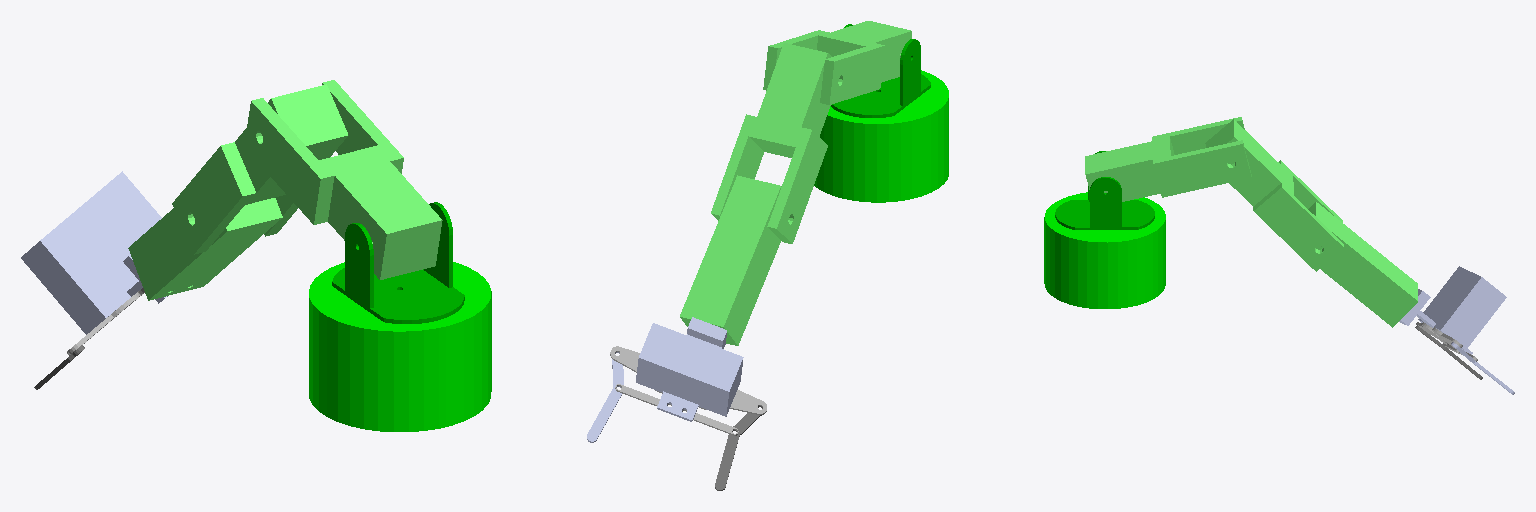
robot.urdf — Basic arm assembly:
<?xml version="1.0" encoding="utf-8"?>
<!-- This URDF was automatically created by SolidWorks to URDF Exporter! Originally created by [author] ([email redacted]) 
     Commit Version: 1.6.0-4-g7f85cfe  Build Version: 1.6.7995.38578
     For more information, please see http://wiki.ros.org/sw_urdf_exporter -->
<robot
  name="Basic arm assembly">
  <link
    name="base_link">
    <inertial>
      <origin
        xyz="-0.00380985203184991 0.00814825726353621 -0.00233105284996782"
        rpy="0 0 0" />
      <mass
        value="0.235167059677118" />
      <inertia
        ixx="0.000136829619935939"
        ixy="-2.11717002823901E-22"
        ixz="2.29413373012754E-22"
        iyy="0.000183424841060507"
        iyz="6.10739134785518E-23"
        izz="0.000136829619935939" />
    </inertial>
    <visual>
      <origin
        xyz="0 0 0"
        rpy="0 0 0" />
      <geometry>
        <mesh
          filename="package://Basic arm assembly/meshes/base_link.STL" />
      </geometry>
      <material
        name="">
        <color
          rgba="0 1 0 1" />
      </material>
    </visual>
    <collision>
      <origin
        xyz="0 0 0"
        rpy="0 0 0" />
      <geometry>
        <mesh
          filename="package://Basic arm assembly/meshes/base_link.STL" />
      </geometry>
    </collision>
  </link>
  <link
    name="Link_1">
    <inertial>
      <origin
        xyz="-0.000564703412767111 0.00737909547213431 2.12990605447734E-05"
        rpy="0 0 0" />
      <mass
        value="0.00763628922233268" />
      <inertia
        ixx="2.33561396329846E-06"
        ixy="-2.86200073716274E-09"
        ixz="1.13462915563342E-08"
        iyy="3.27744113916437E-06"
        iyz="1.03753300000382E-09"
        izz="2.56532477145443E-06" />
    </inertial>
    <visual>
      <origin
        xyz="0 0 0"
        rpy="0 0 0" />
      <geometry>
        <mesh
          filename="package://Basic arm assembly/meshes/Link_1.STL" />
      </geometry>
      <material
        name="">
        <color
          rgba="0 0.752941176470588 0 1" />
      </material>
    </visual>
    <collision>
      <origin
        xyz="0 0 0"
        rpy="0 0 0" />
      <geometry>
        <mesh
          filename="package://Basic arm assembly/meshes/Link_1.STL" />
      </geometry>
    </collision>
  </link>
  <joint
    name="Joint_0"
    type="revolute">
    <origin
      xyz="-0.0038099 0.0023311 0.03214"
      rpy="1.5708 0 0" />
    <parent
      link="base_link" />
    <child
      link="Link_1" />
    <axis
      xyz="0 1 0" />
    <limit
      lower="0"
      upper="3.1416"
      effort="0"
      velocity="0" />
  </joint>
  <link
    name="Link_2">
    <inertial>
      <origin
        xyz="-0.0322108471620749 1.37806432931598E-14 0.000505950653121921"
        rpy="0 0 0" />
      <mass
        value="0.0582101880777064" />
      <inertia
        ixx="1.1566515603708E-05"
        ixy="1.67530866170466E-17"
        ixz="-6.40659875575069E-21"
        iyy="5.07366498014865E-05"
        iyz="6.30185970034557E-22"
        izz="4.52624130488437E-05" />
    </inertial>
    <visual>
      <origin
        xyz="0 0 0"
        rpy="0 0 0" />
      <geometry>
        <mesh
          filename="package://Basic arm assembly/meshes/Link_2.STL" />
      </geometry>
      <material
        name="">
        <color
          rgba="0.501960784313725 1 0.501960784313725 1" />
      </material>
    </visual>
    <collision>
      <origin
        xyz="0 0 0"
        rpy="0 0 0" />
      <geometry>
        <mesh
          filename="package://Basic arm assembly/meshes/Link_2.STL" />
      </geometry>
    </collision>
  </link>
  <joint
    name="Joint_1"
    type="revolute">
    <origin
      xyz="0 0.027 0"
      rpy="3.1416 1.5708 0" />
    <parent
      link="Link_1" />
    <child
      link="Link_2" />
    <axis
      xyz="0 0 1" />
    <limit
      lower="-3.1416"
      upper="0"
      effort="0"
      velocity="0" />
  </joint>
  <link
    name="Link_3">
    <inertial>
      <origin
        xyz="-0.0322108471620749 3.09613445992341E-14 0.000505950653121706"
        rpy="0 0 0" />
      <mass
        value="0.0582101880777064" />
      <inertia
        ixx="1.1566515603708E-05"
        ixy="3.76303174409481E-17"
        ixz="2.01141229106755E-20"
        iyy="5.07366498014865E-05"
        iyz="1.28124924770971E-21"
        izz="4.52624130488437E-05" />
    </inertial>
    <visual>
      <origin
        xyz="0 0 0"
        rpy="0 0 0" />
      <geometry>
        <mesh
          filename="package://Basic arm assembly/meshes/Link_3.STL" />
      </geometry>
      <material
        name="">
        <color
          rgba="0.501960784313725 1 0.501960784313725 1" />
      </material>
    </visual>
    <collision>
      <origin
        xyz="0 0 0"
        rpy="0 0 0" />
      <geometry>
        <mesh
          filename="package://Basic arm assembly/meshes/Link_3.STL" />
      </geometry>
    </collision>
  </link>
  <joint
    name="Joint_2"
    type="revolute">
    <origin
      xyz="-0.084 0 0"
      rpy="0 0 -1.5708" />
    <parent
      link="Link_2" />
    <child
      link="Link_3" />
    <axis
      xyz="0 0 1" />
    <limit
      lower="-3.1416"
      upper="0"
      effort="0"
      velocity="0" />
  </joint>
  <link
    name="Link 4">
    <inertial>
      <origin
        xyz="-0.0308954859836362 -9.54258413213629E-06 -0.0005059506531217"
        rpy="0 0 0" />
      <mass
        value="0.0622222455818236" />
      <inertia
        ixx="7.31957022846746E-06"
        ixy="-2.29218553278415E-08"
        ixz="-9.99609948842174E-20"
        iyy="4.50564685467085E-05"
        iyz="3.73625221984056E-22"
        izz="4.4213826685387E-05" />
    </inertial>
    <visual>
      <origin
        xyz="0 0 0"
        rpy="0 0 0" />
      <geometry>
        <mesh
          filename="package://Basic arm assembly/meshes/Link 4.STL" />
      </geometry>
      <material
        name="">
        <color
          rgba="0.501960784313725 1 0.501960784313725 1" />
      </material>
    </visual>
    <collision>
      <origin
        xyz="0 0 0"
        rpy="0 0 0" />
      <geometry>
        <mesh
          filename="package://Basic arm assembly/meshes/Link 4.STL" />
      </geometry>
    </collision>
  </link>
  <joint
    name="Joint_3"
    type="revolute">
    <origin
      xyz="-0.084 0 0"
      rpy="3.1416 0 -1.5708" />
    <parent
      link="Link_3" />
    <child
      link="Link 4" />
    <axis
      xyz="0 0 1" />
    <limit
      lower="0"
      upper="3.1416"
      effort="1"
      velocity="1" />
  </joint>
  <link
    name="Link_5">
    <inertial>
      <origin
        xyz="1.17510168262669E-14 0.0202884230751128 0.0131503380736347"
        rpy="0 0 0" />
      <mass
        value="0.0571211482462945" />
      <inertia
        ixx="1.56137488364131E-05"
        ixy="-1.17883163456157E-18"
        ixz="4.66982167838852E-18"
        iyy="1.80777649140427E-05"
        iyz="-1.93269805506753E-06"
        izz="2.32777584956804E-05" />
    </inertial>
    <visual>
      <origin
        xyz="0 0 0"
        rpy="0 0 0" />
      <geometry>
        <mesh
          filename="package://Basic arm assembly/meshes/Link_5.STL" />
      </geometry>
      <material
        name="">
        <color
          rgba="0.792156862745098 0.819607843137255 0.933333333333333 1" />
      </material>
    </visual>
    <collision>
      <origin
        xyz="0 0 0"
        rpy="0 0 0" />
      <geometry>
        <mesh
          filename="package://Basic arm assembly/meshes/Link_5.STL" />
      </geometry>
    </collision>
  </link>
  <joint
    name="Joint_4"
    type="revolute">
    <origin
      xyz="-0.0755 0 -0.00050595"
      rpy="1.5708 1.5621 1.5708" />
    <parent
      link="Link 4" />
    <child
      link="Link_5" />
    <axis
      xyz="0 0 1" />
    <limit
      lower="-1.5621"
      upper="1.5795"
      effort="0"
      velocity="0" />
  </joint>
  <link
    name="Link_gripper_right_base">
    <inertial>
      <origin
        xyz="0.00610868503662098 0.168993636391325 6.06430163102162E-05"
        rpy="0 0 0" />
      <mass
        value="0.00118076821825667" />
      <inertia
        ixx="2.7316068941324E-08"
        ixy="-6.1115024132591E-22"
        ixz="3.53816603561634E-11"
        iyy="1.84200009668776E-07"
        iyz="-2.3951702751801E-21"
        izz="1.57671119539623E-07" />
    </inertial>
    <visual>
      <origin
        xyz="0 0 0"
        rpy="0 0 0" />
      <geometry>
        <mesh
          filename="package://Basic arm assembly/meshes/Link_gripper_right_base.STL" />
      </geometry>
      <material
        name="">
        <color
          rgba="0.752941176470588 0.752941176470588 0.752941176470588 1" />
      </material>
    </visual>
    <collision>
      <origin
        xyz="0 0 0"
        rpy="0 0 0" />
      <geometry>
        <mesh
          filename="package://Basic arm assembly/meshes/Link_gripper_right_base.STL" />
      </geometry>
    </collision>
  </link>
  <joint
    name="Joint_gripper_right_base"
    type="fixed">
    <origin
      xyz="0.0125 0 0.015"
      rpy="3.1416 0.042855 0" />
    <parent
      link="Link_5" />
    <child
      link="Link_gripper_right_base" />
    <axis
      xyz="0 0 0" />
  </joint>
  <link
    name="Link_gripper_right_end">
    <inertial>
      <origin
        xyz="-0.00468697734735113 0.168343695782762 0.00669160531609816"
        rpy="0 0 0" />
      <mass
        value="0.000652163637398932" />
      <inertia
        ixx="2.34523770944788E-08"
        ixy="1.73746608497845E-10"
        ixz="5.13033003198838E-08"
        iyy="1.66519931118194E-07"
        iyz="1.14499464590631E-11"
        izz="1.435051069775E-07" />
    </inertial>
    <visual>
      <origin
        xyz="0 0 0"
        rpy="0 0 0" />
      <geometry>
        <mesh
          filename="package://Basic arm assembly/meshes/Link_gripper_right_end.STL" />
      </geometry>
      <material
        name="">
        <color
          rgba="0.501960784313725 0.501960784313725 0.501960784313725 1" />
      </material>
    </visual>
    <collision>
      <origin
        xyz="0 0 0"
        rpy="0 0 0" />
      <geometry>
        <mesh
          filename="package://Basic arm assembly/meshes/Link_gripper_right_end.STL" />
      </geometry>
    </collision>
  </link>
  <joint
    name="Joint_gripper_right_end"
    type="fixed">
    <origin
      xyz="0.019788 0.17199 -0.017921"
      rpy="-3.1416 -1.1179 0" />
    <parent
      link="Link_gripper_right_base" />
    <child
      link="Link_gripper_right_end" />
    <axis
      xyz="0 0 0" />
  </joint>
  <link
    name="Link_gripper_right_support">
    <inertial>
      <origin
        xyz="0.0167959834080883 0.168654050736 -0.167996890001364"
        rpy="0 0 0" />
      <mass
        value="0.000236858407346411" />
      <inertia
        ixx="4.13593831831108E-10"
        ixy="3.10899104660179E-10"
        ixz="5.21524484083866E-15"
        iyy="1.82661859085473E-08"
        iyz="8.19040580389625E-15"
        izz="1.80213228840835E-08" />
    </inertial>
    <visual>
      <origin
        xyz="0 0 0"
        rpy="0 0 0" />
      <geometry>
        <mesh
          filename="package://Basic arm assembly/meshes/Link_gripper_right_support.STL" />
      </geometry>
      <material
        name="">
        <color
          rgba="0.752941176470588 0.752941176470588 0.752941176470588 1" />
      </material>
    </visual>
    <collision>
      <origin
        xyz="0 0 0"
        rpy="0 0 0" />
      <geometry>
        <mesh
          filename="package://Basic arm assembly/meshes/Link_gripper_right_support.STL" />
      </geometry>
    </collision>
  </link>
  <joint
    name="Joint_gripper_right_support"
    type="revolute">
    <origin
      xyz="0.0044993 -7.8331E-05 0.032"
      rpy="3.1416 -0.0019006 -0.017408" />
    <parent
      link="Link_5" />
    <child
      link="Link_gripper_right_support" />
    <axis
      xyz="0 1 0" />
    <limit
      lower="-1.5689"
      upper="0.0019006"
      effort="0"
      velocity="0" />
  </joint>
  <link
    name="Link_gripper_right_support_end">
    <inertial>
      <origin
        xyz="0.148911374531962 0.000350024932742193 -0.0616624819723988"
        rpy="0 0 0" />
      <mass
        value="0.000652163637398935" />
      <inertia
        ixx="2.34815415754439E-08"
        ixy="1.72999659155749E-10"
        ixz="5.13374061207313E-08"
        iyy="1.66519932645771E-07"
        iyz="1.16789359519553E-11"
        izz="1.43475940968959E-07" />
    </inertial>
    <visual>
      <origin
        xyz="0 0 0"
        rpy="0 0 0" />
      <geometry>
        <mesh
          filename="package://Basic arm assembly/meshes/Link_gripper_right_support_end.STL" />
      </geometry>
      <material
        name="">
        <color
          rgba="0.501960784313725 0.501960784313725 0.501960784313725 1" />
      </material>
    </visual>
    <collision>
      <origin
        xyz="0 0 0"
        rpy="0 0 0" />
      <geometry>
        <mesh
          filename="package://Basic arm assembly/meshes/Link_gripper_right_support_end.STL" />
      </geometry>
    </collision>
  </link>
  <joint
    name="Joint_gripper_right_support_end"
    type="fixed">
    <origin
      xyz="0.0318459313577292 0.171392493122483 -0.16799679507084"
      rpy="-3.14150929553947 -1.16267898759699 -0.0174842629087696" />
    <parent
      link="Link_gripper_right_support" />
    <child
      link="Link_gripper_right_support_end" />
    <axis
      xyz="0 0 0" />
  </joint>
  <link
    name="Link_gripper_left_base">
    <inertial>
      <origin
        xyz="0.0112074867107235 0.170644277924422 0.0461751805143446"
        rpy="0 0 0" />
      <mass
        value="0.00118076821825666" />
      <inertia
        ixx="2.84923375296939E-08"
        ixy="2.71766094352569E-09"
        ixz="1.20757126367771E-08"
        iyy="1.84152558998179E-07"
        iyz="-2.32498447480159E-10"
        izz="1.5654230162185E-07" />
    </inertial>
    <visual>
      <origin
        xyz="0 0 0"
        rpy="0 0 0" />
      <geometry>
        <mesh
          filename="package://Basic arm assembly/meshes/Link_gripper_left_base.STL" />
      </geometry>
      <material
        name="">
        <color
          rgba="0.752941176470588 0.752941176470588 0.752941176470588 1" />
      </material>
    </visual>
    <collision>
      <origin
        xyz="0 0 0"
        rpy="0 0 0" />
      <geometry>
        <mesh
          filename="package://Basic arm assembly/meshes/Link_gripper_left_base.STL" />
      </geometry>
    </collision>
  </link>
  <joint
    name="Joint_gripper_left_base"
    type="fixed">
    <origin
      xyz="-0.0139951551802364 -0.169775747076249 0.0150000000000947"
      rpy="-3.14159265358969 0.046735627045845 3.12418487107114" />
    <parent
      link="Link_5" />
    <child
      link="Link_gripper_left_base" />
    <axis
      xyz="0 0 0" />
  </joint>
  <link
    name="Link_gripper_left_end">
    <inertial>
      <origin
        xyz="0.0817397498326785 0.00634911586300868 0.0323250851710278"
        rpy="0 0 0" />
      <mass
        value="0.000652163637398932" />
      <inertia
        ixx="3.63813708270391E-08"
        ixy="-1.0951849728846E-10"
        ixz="-6.3380051560476E-08"
        iyy="1.66519932645771E-07"
        iyz="-1.34428339276265E-10"
        izz="1.30576111717363E-07" />
    </inertial>
    <visual>
      <origin
        xyz="0 0 0"
        rpy="0 0 0" />
      <geometry>
        <mesh
          filename="package://Basic arm assembly/meshes/Link_gripper_left_end.STL" />
      </geometry>
      <material
        name="">
        <color
          rgba="0.792156862745098 0.819607843137255 0.933333333333333 1" />
      </material>
    </visual>
    <collision>
      <origin
        xyz="0 0 0"
        rpy="0 0 0" />
      <geometry>
        <mesh
          filename="package://Basic arm assembly/meshes/Link_gripper_left_end.STL" />
      </geometry>
    </collision>
  </link>
  <joint
    name="Joint_gripper_left_end"
    type="fixed">
    <origin
      xyz="0.0264882202370043 0.173392493122449 0.0627740330934791"
      rpy="3.13930242587817 1.20779057576466 -0.0195297612363638" />
    <parent
      link="Link_gripper_left_base" />
    <child
      link="Link_gripper_left_end" />
    <axis
      xyz="0 0 0" />
  </joint>
  <link
    name="Link_gripper_left_support">
    <inertial>
      <origin
        xyz="0.00048758984452916 -0.000660414344889084 -0.248942505345365"
        rpy="0 0 0" />
      <mass
        value="0.000236858407346411" />
      <inertia
        ixx="4.13848282911545E-10"
        ixy="-3.10896889717982E-10"
        ixz="-6.69346021370814E-11"
        iyy="1.82661859085473E-08"
        iyz="-1.17358822229113E-12"
        izz="1.80210684330031E-08" />
    </inertial>
    <visual>
      <origin
        xyz="0 0 0"
        rpy="0 0 0" />
      <geometry>
        <mesh
          filename="package://Basic arm assembly/meshes/Link_gripper_left_support.STL" />
      </geometry>
      <material
        name="">
        <color
          rgba="0.752941176470588 0.752941176470588 0.752941176470588 1" />
      </material>
    </visual>
    <collision>
      <origin
        xyz="0 0 0"
        rpy="0 0 0" />
      <geometry>
        <mesh
          filename="package://Basic arm assembly/meshes/Link_gripper_left_support.STL" />
      </geometry>
    </collision>
  </link>
  <joint
    name="Joint_gripper_left_support"
    type="fixed">
    <origin
      xyz="-0.019497018435776 0.000339434143682142 0.0319714912166448"
      rpy="0 0.0019005867120053 3.12418487107114" />
    <parent
      link="Link_5" />
    <child
      link="Link_gripper_left_support" />
    <axis
      xyz="0 0 0" />
  </joint>
  <link
    name="Link_gripper_left_support_end">
    <inertial>
      <origin
        xyz="-0.00526984664867214 0.00035002493270209 -0.00535056235281295"
        rpy="0 0 0" />
      <mass
        value="0.000652163637398933" />
      <inertia
        ixx="2.34523711030141E-08"
        ixy="1.72996332875409E-10"
        ixz="-5.1303295439662E-08"
        iyy="1.66519932645771E-07"
        iyz="-1.17281020174843E-11"
        izz="1.43505111441388E-07" />
    </inertial>
    <visual>
      <origin
        xyz="0 0 0"
        rpy="0 0 0" />
      <geometry>
        <mesh
          filename="package://Basic arm assembly/meshes/Link_gripper_left_support_end.STL" />
      </geometry>
      <material
        name="">
        <color
          rgba="0.792156862745098 0.819607843137255 0.933333333333333 1" />
      </material>
    </visual>
    <collision>
      <origin
        xyz="0 0 0"
        rpy="0 0 0" />
      <geometry>
        <mesh
          filename="package://Basic arm assembly/meshes/Link_gripper_left_support_end.STL" />
      </geometry>
    </collision>
  </link>
  <joint
    name="Joint_gripper_left_support_end"
    type="fixed">
    <origin
      xyz="0.015537429427405 -0.0033988567313719 -0.248885392950767"
      rpy="-8.34128784352777E-05 -1.16296318744265 0.0174843226411675" />
    <parent
      link="Link_gripper_left_support" />
    <child
      link="Link_gripper_left_support_end" />
    <axis
      xyz="0 0 0" />
  </joint>
</robot>

--- Render facts (derived) ---
3 views of the same robot in one strip: view 1: azimuth 30°, elevation 25°; view 2: azimuth 150°, elevation 25°; view 3: azimuth 270°, elevation 25° (orthographic).
Model Basic arm assembly with 14 links and 13 joints (6 revolute, 7 fixed), rooted at base_link, posed every joint at zero.
Links seen in each view (by area): view 1: base_link, Link_2, Link_5, Link_3, Link_1, Link 4; view 2: base_link, Link_3, Link 4, Link_5, Link_2, Link_1, Link_gripper_right_end, Link_gripper_left_end, Link_gripper_right_base; view 3: base_link, Link_2, Link_3, Link 4, Link_5, Link_1.
Link boxes in pixels (bbox=[...]): base_link: bbox=[309, 262, 491, 431]; Link_2: bbox=[244, 80, 442, 279]; Link_5: bbox=[21, 171, 167, 334]; Link_3: bbox=[172, 84, 348, 254]; Link_1: bbox=[332, 202, 464, 323]; Link 4: bbox=[128, 198, 282, 300]; base_link: bbox=[814, 70, 948, 202]; Link_3: bbox=[711, 43, 831, 243]; Link 4: bbox=[680, 175, 781, 345]; Link_5: bbox=[636, 317, 743, 421]; Link_2: bbox=[763, 21, 911, 104]; Link_1: bbox=[831, 24, 930, 117]; Link_gripper_right_end: bbox=[715, 406, 761, 490]; Link_gripper_left_end: bbox=[587, 352, 623, 442]; Link_gripper_right_base: bbox=[699, 390, 766, 414]; base_link: bbox=[1044, 192, 1165, 308]; Link_2: bbox=[1085, 117, 1251, 201]; Link_3: bbox=[1205, 119, 1343, 271]; Link 4: bbox=[1308, 202, 1417, 327]; Link_5: bbox=[1399, 266, 1506, 354]; Link_1: bbox=[1055, 151, 1154, 229].
Size in the robot's own frame: 0.0866 by 0.3061 by 0.1981 metres.
Meshes: 14 distinct files referenced, 14 mesh visuals loaded (14 binary STL).